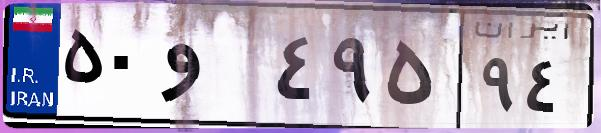0: (110, 28, 158, 98)
4: (270, 28, 330, 110), (525, 38, 570, 115)
5: (385, 28, 445, 110), (57, 26, 110, 100)
9: (330, 28, 385, 110), (475, 38, 525, 113)
و: (158, 20, 270, 120)
